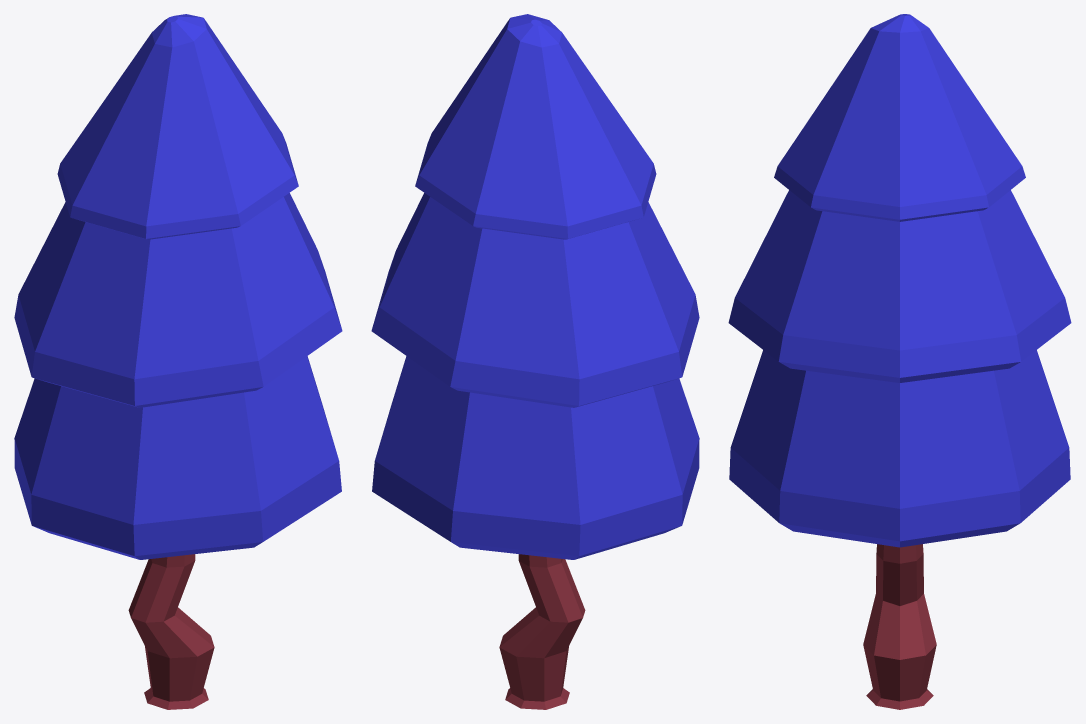
Rendered from Tree001_V2.fbx.
3 renders of one model, left to right at view 1: azimuth 30°, elevation 25°; view 2: azimuth 150°, elevation 25°; view 3: azimuth 270°, elevation 25°, orthographic.
Parts seen in each view (by area): view 1: Tree001; view 2: Tree001; view 3: Tree001.
Part boxes in pixels (x1,y1,x2,y2): Tree001: (14, 14, 342, 709); Tree001: (371, 14, 699, 709); Tree001: (728, 14, 1071, 709).
Size of the model in its own units: 2.53 by 5.57 by 2.54.
